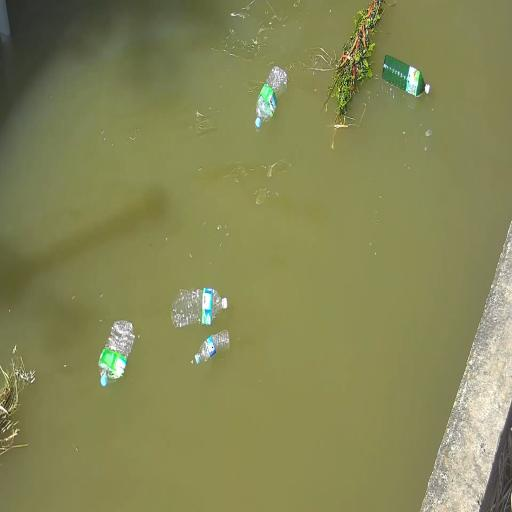plastic: (384, 56, 433, 106), (252, 66, 289, 126), (100, 321, 130, 392), (171, 290, 232, 324), (196, 334, 232, 368)
twig: (324, 5, 386, 140), (0, 340, 37, 460)
